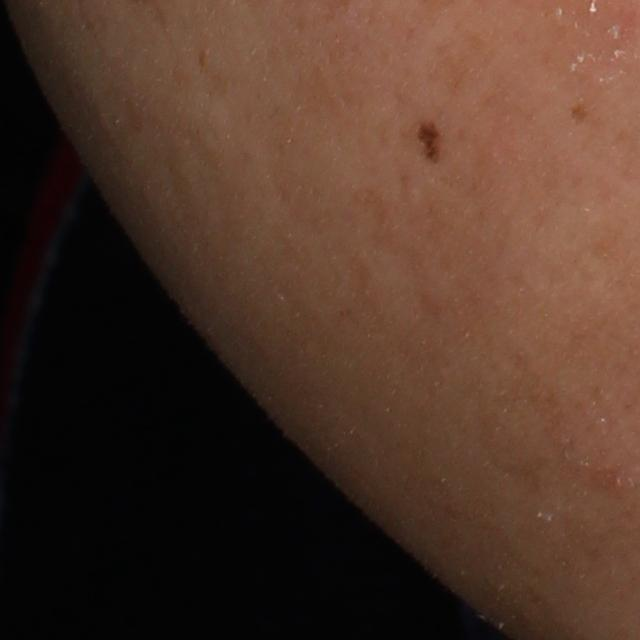nevus: (416, 119, 445, 167)
